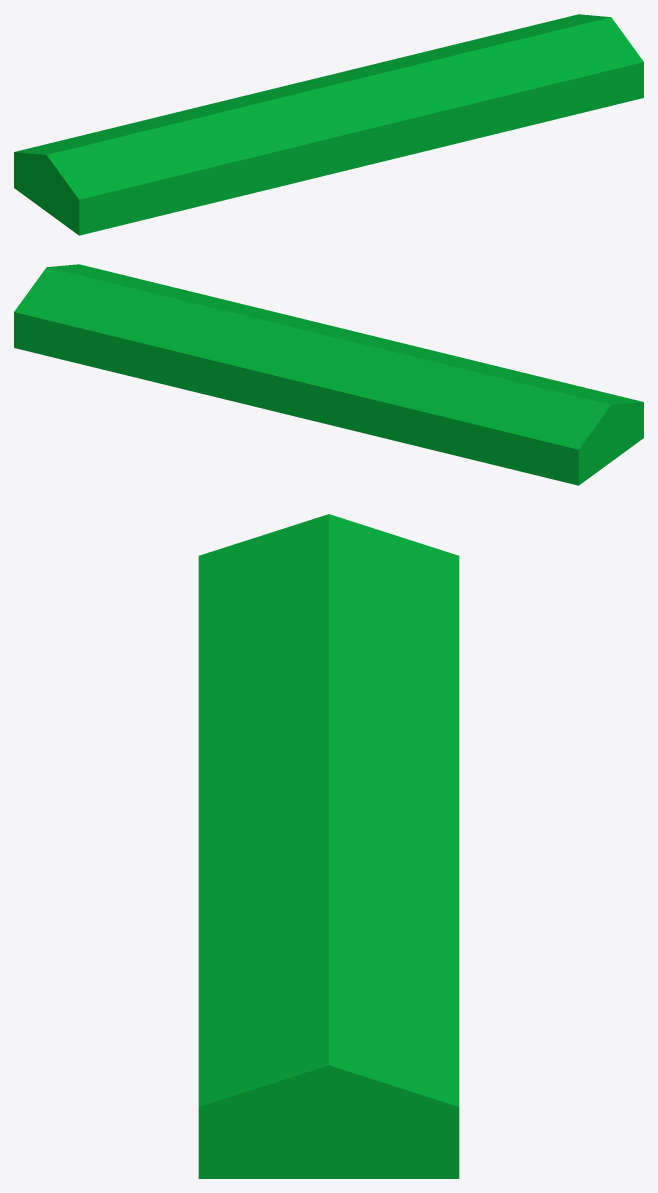
The model's file is basic_floor_teeth.gltf.
3 views of the same model, one above another, from view 1: azimuth 30°, elevation 25°; view 2: azimuth 150°, elevation 25°; view 3: azimuth 270°, elevation 25° (orthographic). The views are drawn at different scales.
Visible parts, largest first — view 1: basic_floor_teeth_glb; view 2: basic_floor_teeth_glb; view 3: basic_floor_teeth_glb.
Part boxes in pixels (x1,y1,x2,y2): basic_floor_teeth_glb: [14, 14, 643, 235]; basic_floor_teeth_glb: [14, 264, 643, 485]; basic_floor_teeth_glb: [198, 514, 459, 1178].
Size of what is drawn, in the model's own units: 4 by 0.3849 by 0.8.
1 material, 1 textured.
